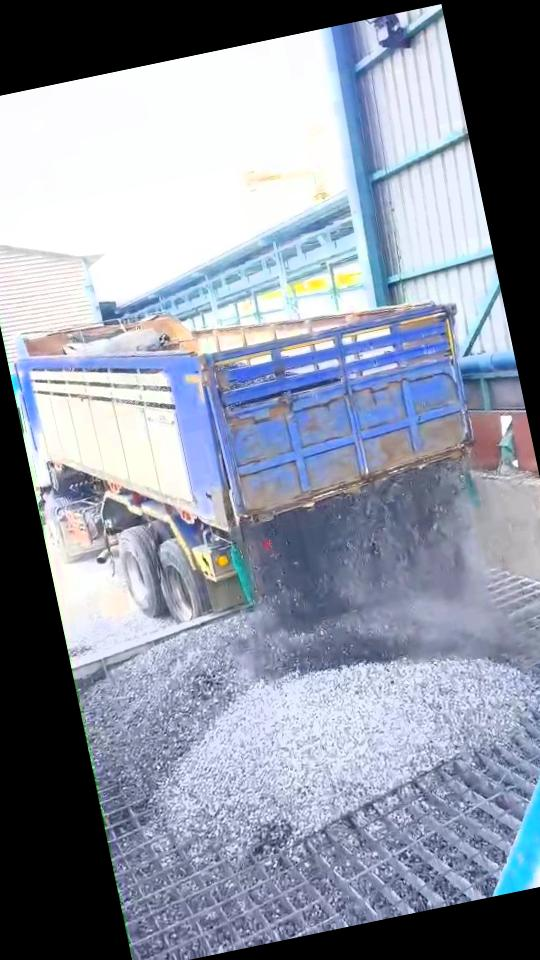gravel: (83, 614, 540, 858), (247, 460, 502, 661)
